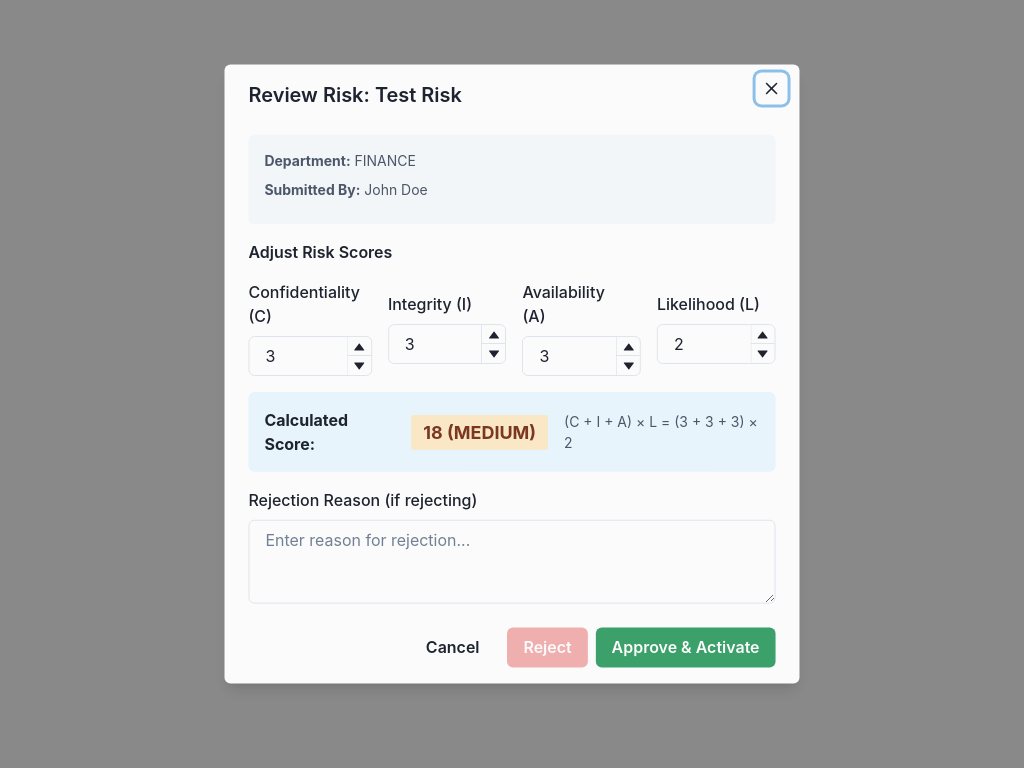
RiskApprovalModal › Loading States › should disable buttons during loading state
Click the button "Approve & Activate": {"x": 686, "y": 648} [596,628,776,668]
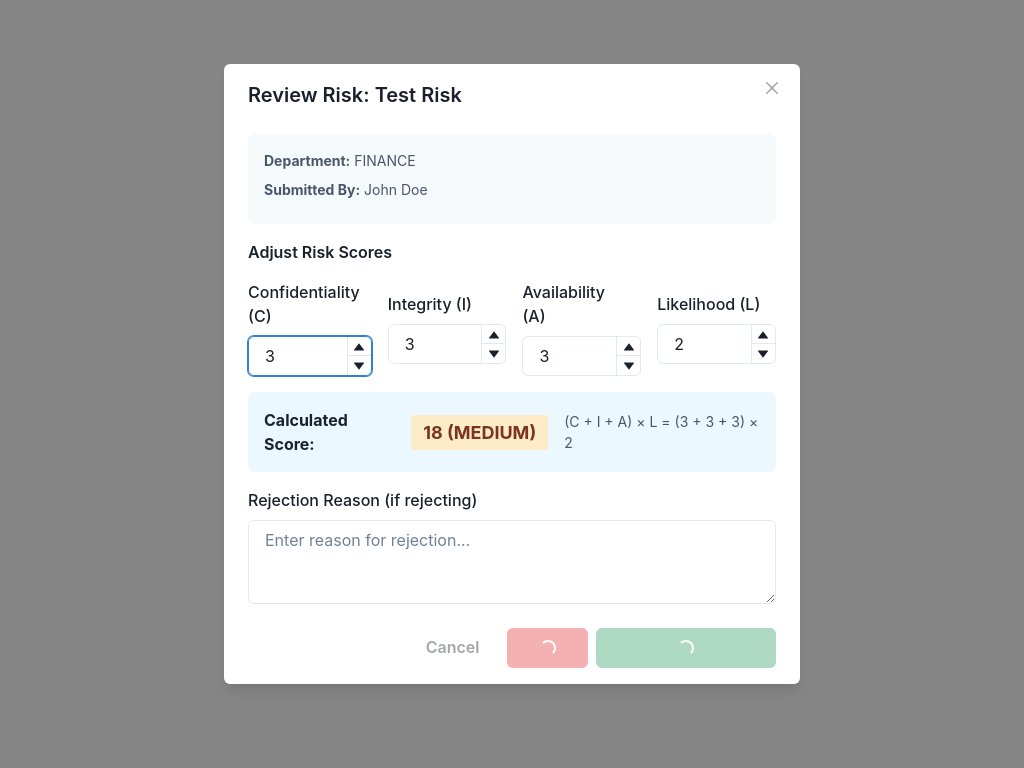
expect the button named "close" is disabled: met, box [756,72,788,104]
